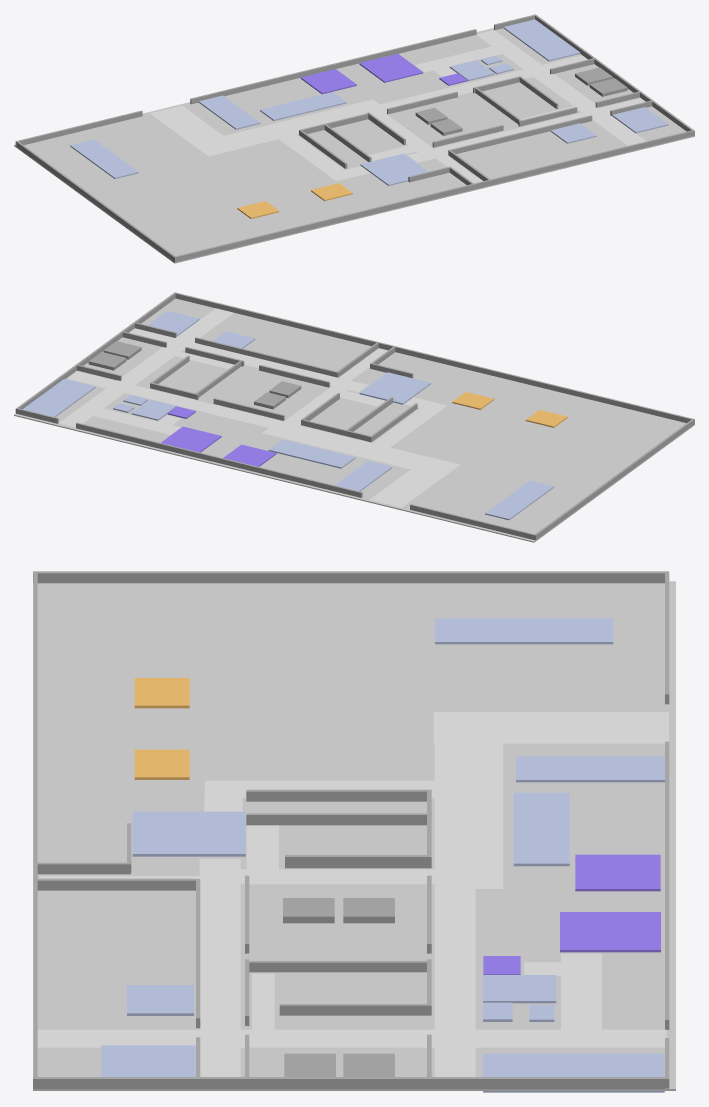
Rendered from RBH Demo Map GF (2).glb.
3 views of the same model, one above another, from view 1: azimuth 30°, elevation 25°; view 2: azimuth 150°, elevation 25°; view 3: azimuth 270°, elevation 25° (orthographic). The views are drawn at different scales.
Visible parts, largest first — view 1: GF, Cube (9), Cube (6) (×2), Plane (1), Cube (×3), Cube (1) (×3), Cube (3) (×3), Cube (2) (×2), Plane, Plane (6), Plane (2), Plane (7) (+12 smaller); view 2: GF, Cube (9), Cube (6) (×2), Plane (1), Plane (2), Cube (3) (×3), Plane, Cube (×3), Cube (2) (×2), Plane (6), Cube (1) (×3), Plane (7) (+12 smaller); view 3: GF, Cube (×5), Cube (1) (×5), Plane (1), Plane (7), Cube (8), Plane (2), Plane, Cube (10), Plane (6), Cube (6) (×2), Cube (2) (×2) (+16 smaller).
Boxes of the visible parts, x1=… form: GF: x1=14, y1=28, x2=694, y2=263; Cube (9): x1=176, y1=130, x2=694, y2=261; Cube (6) (×2): x1=190, y1=29, x2=476, y2=185; Plane (1): x1=221, y1=99, x2=386, y2=148; Cube (×3): x1=300, y1=69, x2=668, y2=201; Cube (1) (×3): x1=237, y1=53, x2=596, y2=218; Cube (3) (×3): x1=260, y1=78, x2=627, y2=120; Cube (2) (×2): x1=503, y1=19, x2=612, y2=85; Plane: x1=150, y1=105, x2=240, y2=156; Plane (6): x1=534, y1=73, x2=646, y2=145; Plane (2): x1=379, y1=55, x2=587, y2=110; Plane (7): x1=407, y1=98, x2=645, y2=162; GF: x1=14, y1=298, x2=694, y2=542; Cube (9): x1=174, y1=292, x2=692, y2=422; Cube (6) (×2): x1=76, y1=372, x2=431, y2=497; Plane (1): x1=262, y1=421, x2=427, y2=469; Plane (2): x1=67, y1=371, x2=279, y2=428; Cube (3) (×3): x1=103, y1=341, x2=355, y2=468; Plane: x1=369, y1=456, x2=460, y2=507; Cube (×3): x1=147, y1=310, x2=494, y2=466; Cube (2) (×2): x1=23, y1=352, x2=126, y2=417; Plane (6): x1=117, y1=308, x2=233, y2=385; Cube (1) (×3): x1=161, y1=331, x2=567, y2=452; Plane (7): x1=129, y1=328, x2=368, y2=392; GF: x1=33, y1=581, x2=675, y2=1090; Cube (×5): x1=101, y1=749, x2=660, y2=1076; Cube (1) (×5): x1=127, y1=678, x2=660, y2=1015; Plane (1): x1=434, y1=740, x2=503, y2=888; Plane (7): x1=199, y1=858, x2=240, y2=1076; Cube (8): x1=33, y1=571, x2=664, y2=583; Plane (2): x1=434, y1=887, x2=475, y2=1076; Plane: x1=433, y1=712, x2=668, y2=743; Cube (10): x1=33, y1=1077, x2=664, y2=1088; Plane (6): x1=37, y1=1029, x2=435, y2=1047; Cube (6) (×2): x1=132, y1=741, x2=669, y2=1029; Cube (2) (×2): x1=343, y1=1053, x2=664, y2=1092.
Size of the model in its own units: 53.88 by 0.7805 by 28.84.
